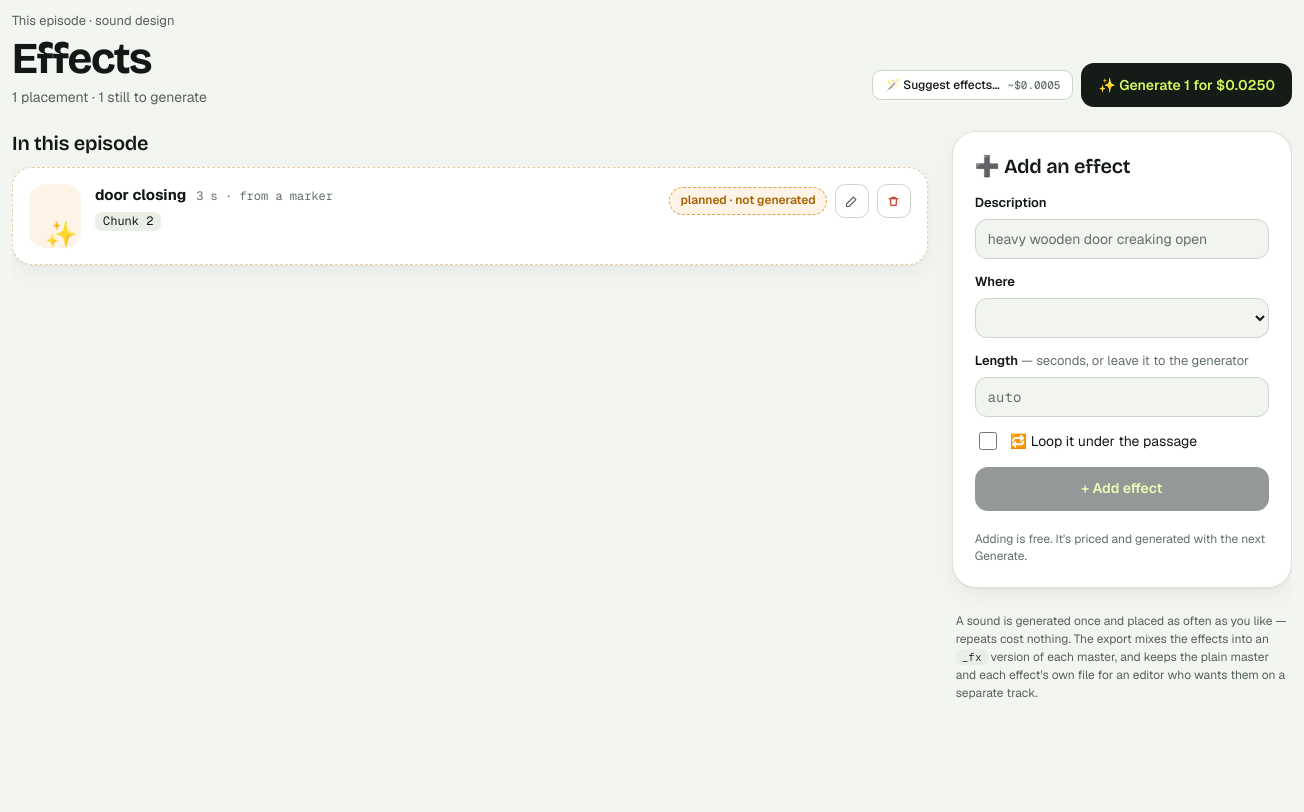
Test case: generating effects › prices with a dry run first, and spends only when asked
Click the button "✨ Generate 1 for $0.0250" at (1187, 85), box [1081,63,1292,107]
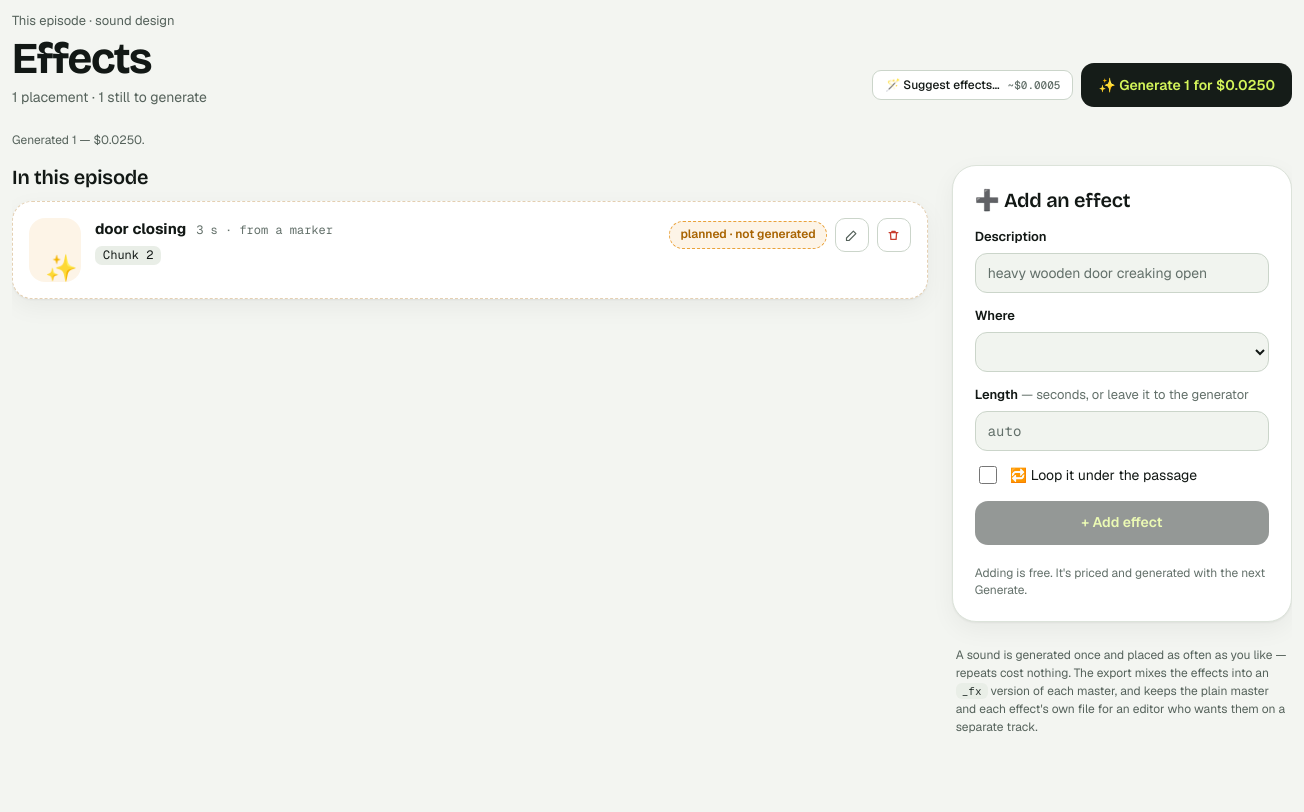
Check: the text "Generated 1" is shown, box [12,132,144,148]
